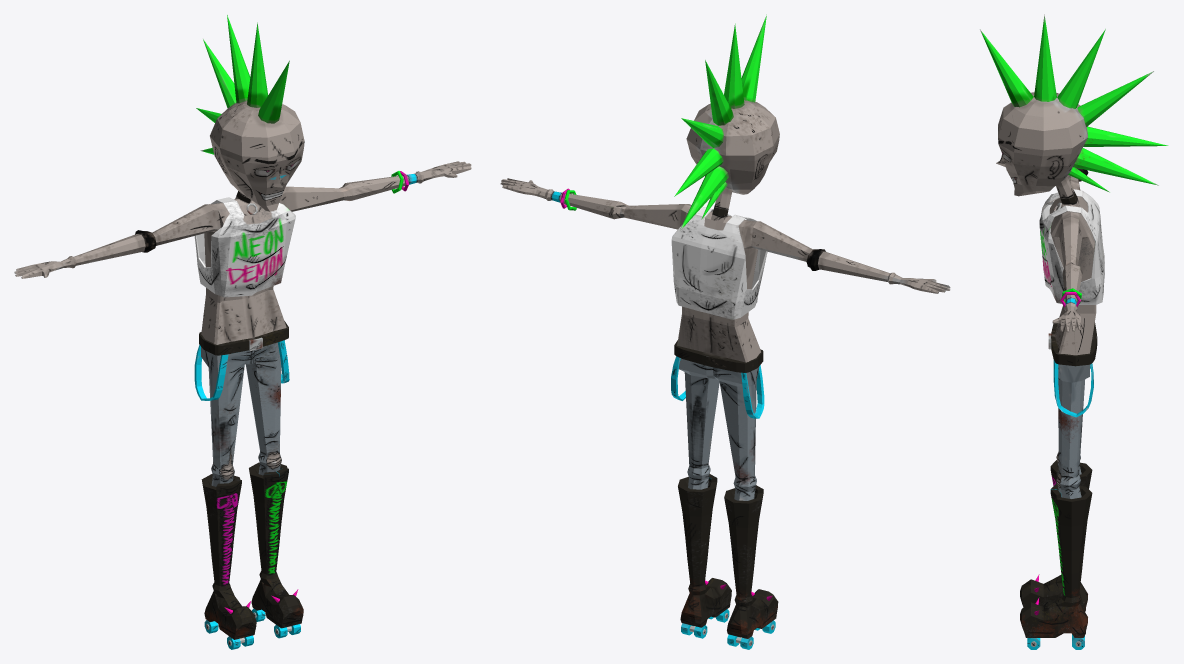
File: punk.obj
The picture shows the model from 3 angles, left to right: view 1: azimuth 30°, elevation 25°; view 2: azimuth 150°, elevation 25°; view 3: azimuth 270°, elevation 25°; orthographic projection. The views are drawn at different scales.
Visible parts, largest first — view 1: Cube.004_Cube.003; view 2: Cube.004_Cube.003; view 3: Cube.004_Cube.003.
Boxes of the visible parts, <box> form: Cube.004_Cube.003: <box>14,15,471,649</box>; Cube.004_Cube.003: <box>500,14,950,649</box>; Cube.004_Cube.003: <box>980,14,1168,649</box>.
Size of the model in its own units: 5.93 by 7.66 by 2.13.
1 material, 1 textured.
